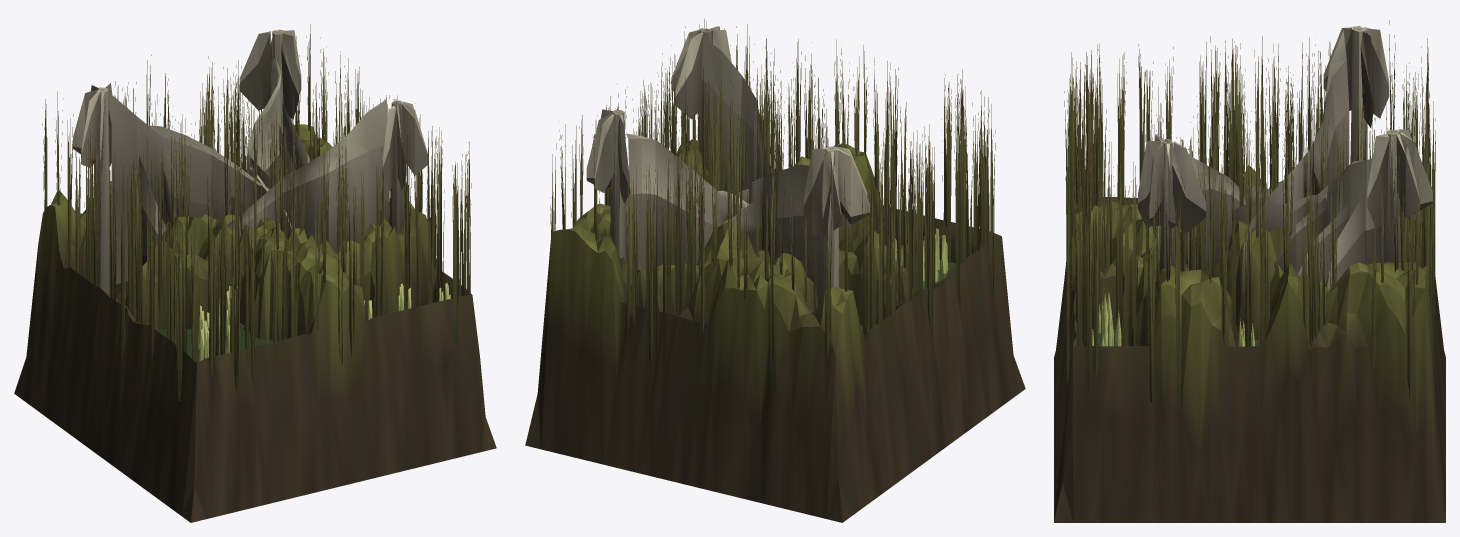
Rendered from death-marsh.glb.
3 renders of one model, left to right at view 1: azimuth 30°, elevation 25°; view 2: azimuth 150°, elevation 25°; view 3: azimuth 270°, elevation 25°, orthographic. The views are drawn at different scales.
Parts seen in each view (by area): view 1: death-marsh, death-marsh-translucent; view 2: death-marsh; view 3: death-marsh.
Boxes of the visible parts, x1,y1,x2,y2 form: death-marsh: (14,24,496,522); death-marsh-translucent: (108,292,277,361); death-marsh: (525,19,1025,522); death-marsh: (1054,20,1445,522).
Bounding box in the file's own units: 1 × 1 × 1.
